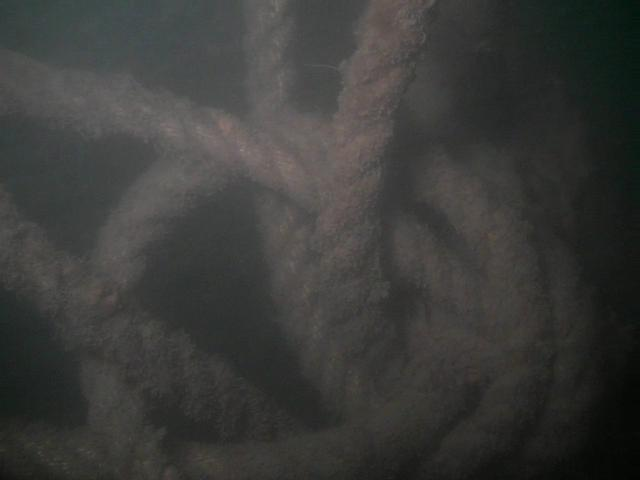bundle of ropes: (0, 0, 608, 480)
